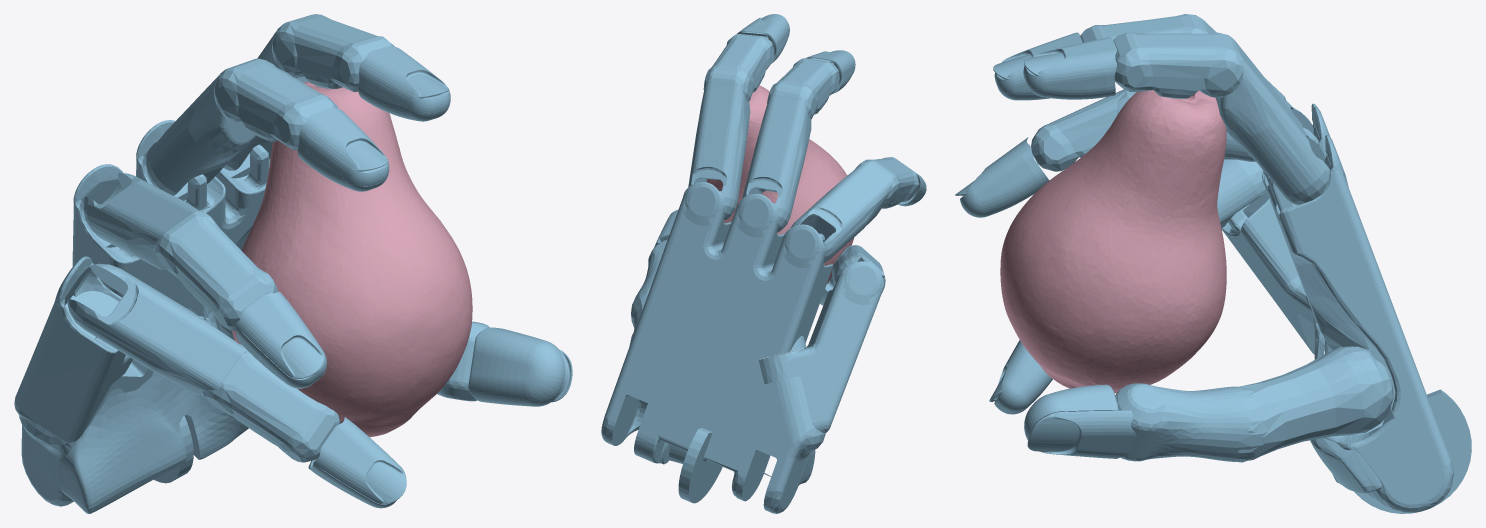
3 views of the same model, side by side, from view 1: azimuth 30°, elevation 25°; view 2: azimuth 150°, elevation 25°; view 3: azimuth 270°, elevation 25° (orthographic). The views are drawn at different scales.
Visible parts, largest first — view 1: world, pear.stl; view 2: world, pear.stl; view 3: world, pear.stl.
Part boxes in pixels (left/top/right/bottom): world: left=14, top=14, right=572, bottom=513; pear.stl: left=232, top=82, right=472, bottom=437; world: left=601, top=14, right=926, bottom=513; pear.stl: left=706, top=85, right=854, bottom=283; world: left=955, top=14, right=1471, bottom=513; pear.stl: left=1000, top=90, right=1226, bottom=393.
Size of the model in its own units: 0.1303 by 0.162 by 0.1499.
